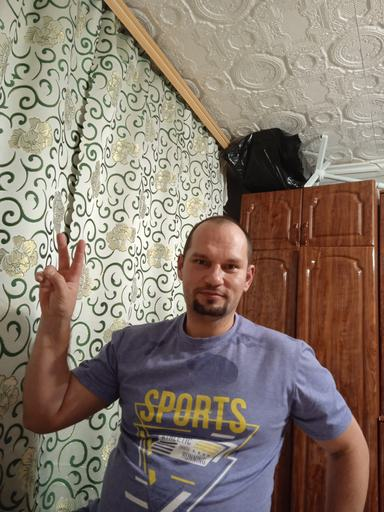peace: (35, 232, 87, 323)
